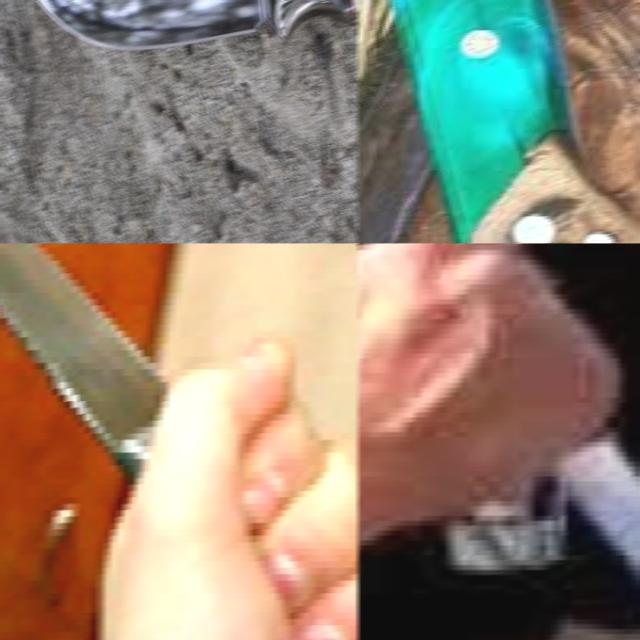Knife: (0, 243, 166, 488), (555, 430, 640, 566)
Knife_Handle: (358, 243, 640, 640)
